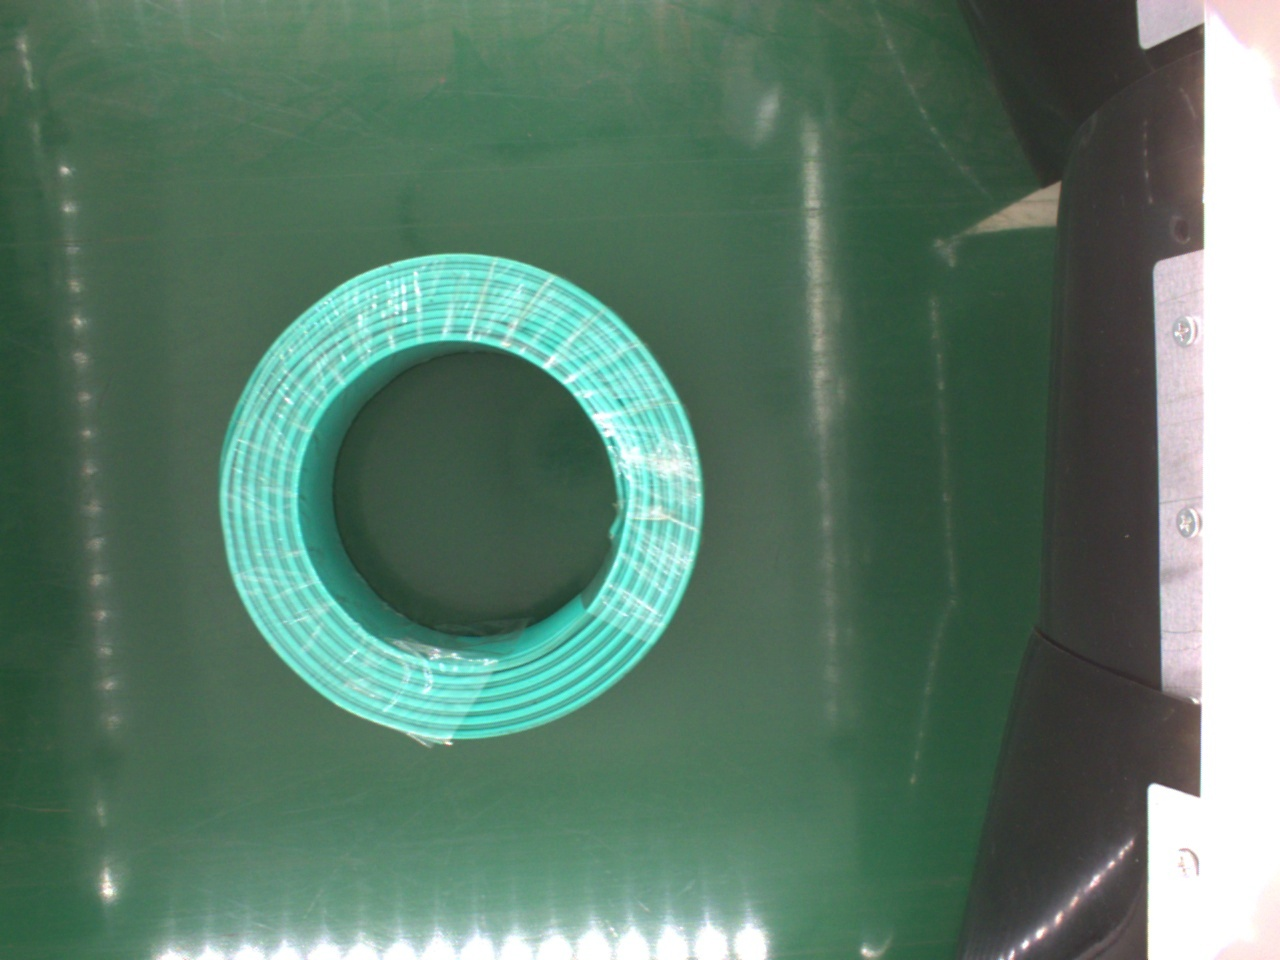green: (203, 252, 706, 745)
